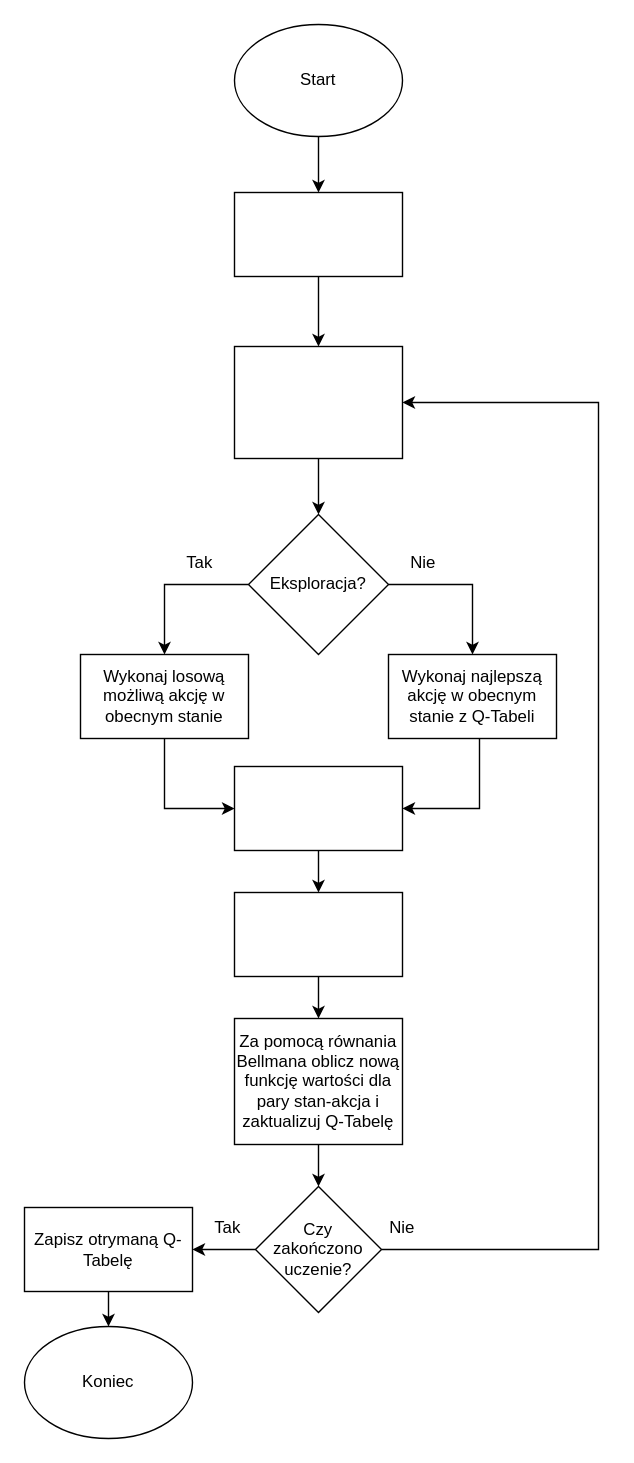
Image size: 634x1463. Some labels were removed from this diagram. The centre of each missing label's shape, as x and y in pixels:
"Na podstawie współczynnika eksploracji wylosuj czy eksplorować" belongs at point 317,401.
"Otrzymaj nagrodę za wykonaną akcję" belongs at point 317,933.
"Zainicjalizuj środowisko, agenta, Q-Tabelę oraz inne niezbędne elementy" belongs at point 317,233.
"Zaktualizuj środowisko" belongs at point 317,807.
